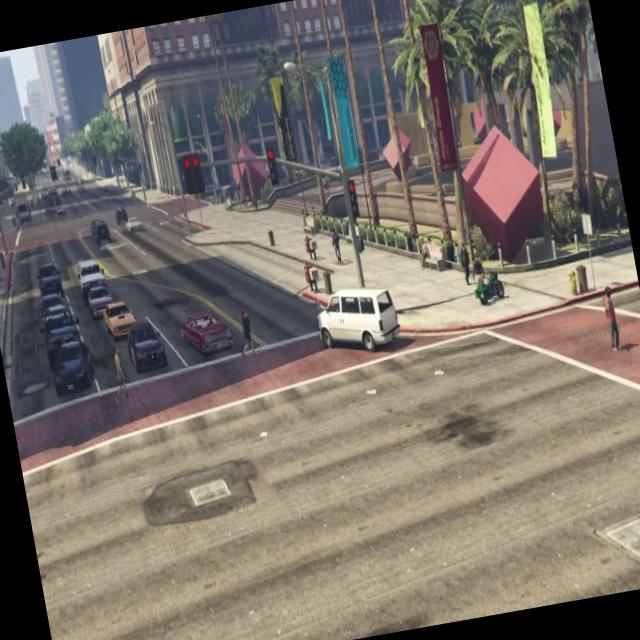Red-Signal: (174, 137, 212, 201), (336, 166, 372, 232), (257, 142, 291, 200)
